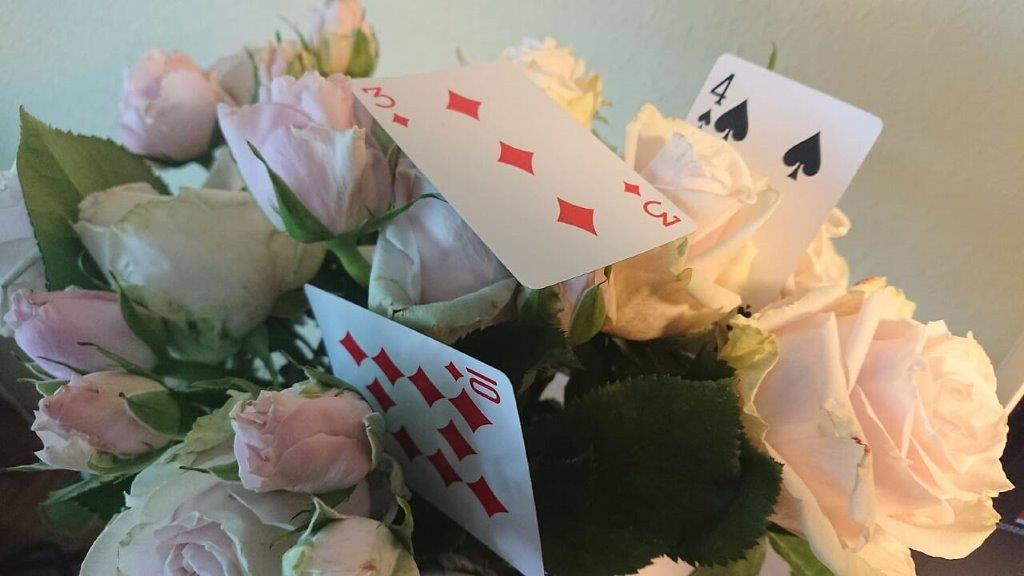3D: (355, 82, 415, 133)
4S: (692, 69, 737, 132)
